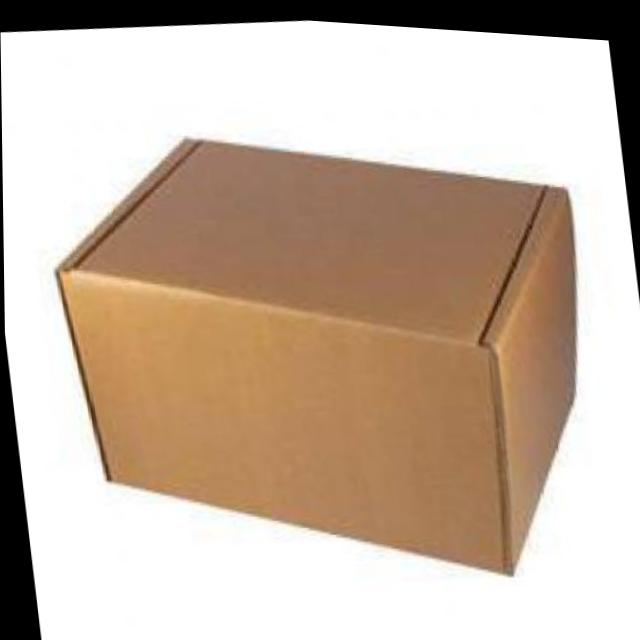box: (25, 70, 634, 631)
